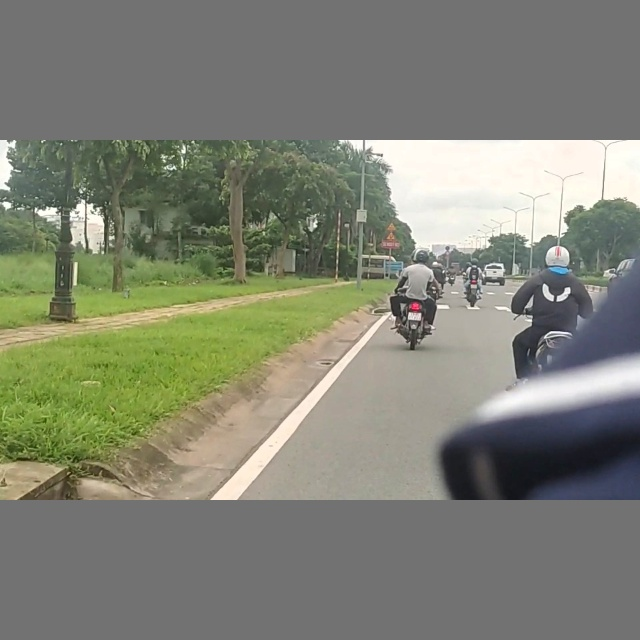P.130: (444, 246, 450, 251)
W.245a: (387, 222, 396, 230)
W.246a: (385, 232, 396, 240)
